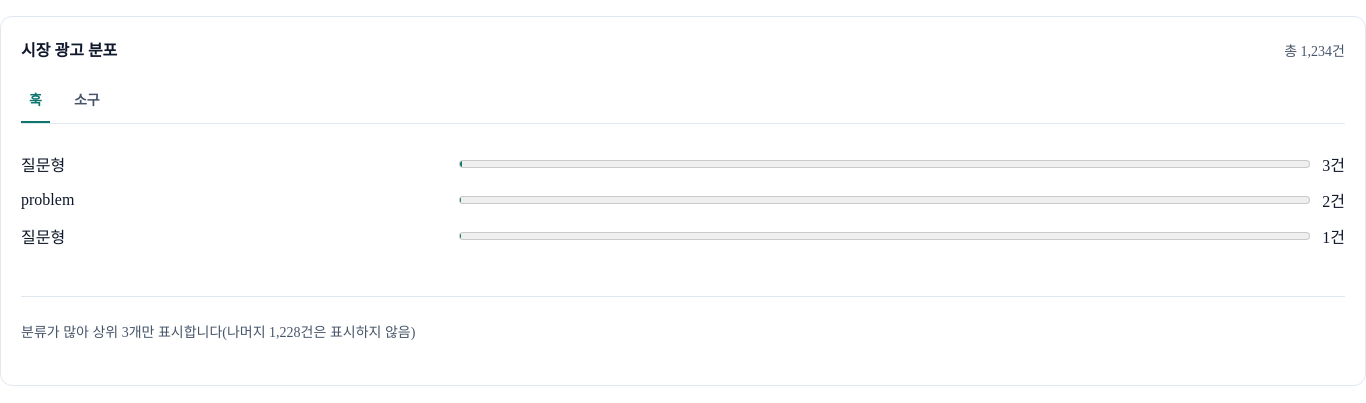
Test: shows only a consistent active-axis total in the result competitor title line
Expected: the text with class "gs-insight-total" reads "총 1,234건", [1284,40,1345,60]
Expected: the headings read "시장 광고 분포", in this order, [21,37,117,61]
Click the tab "소구" at (87, 100), box [66,77,108,123]
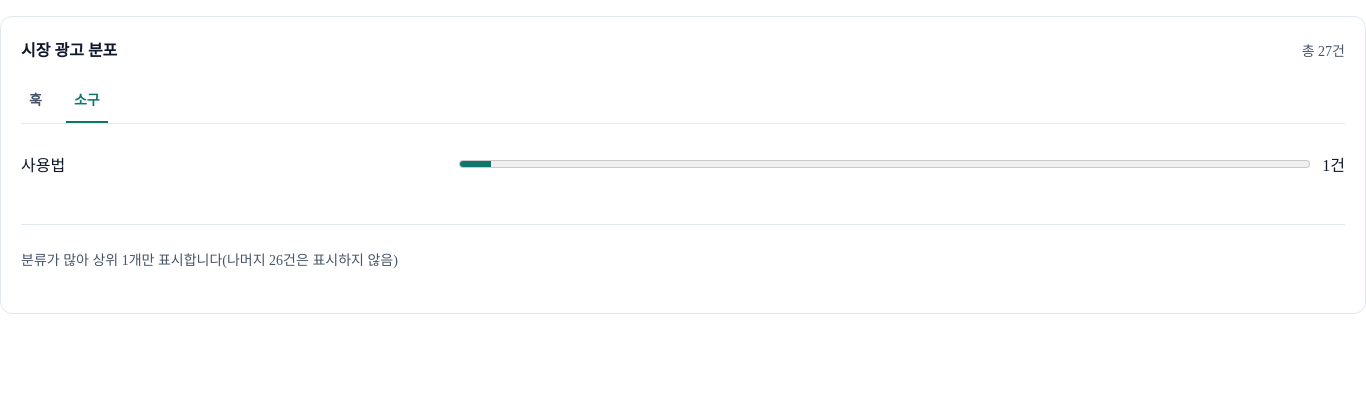
Expected: the text with class "gs-insight-total" reads "총 27건", [1302,40,1345,60]
Click the tab "훅" at (35, 100), box [21,77,50,123]
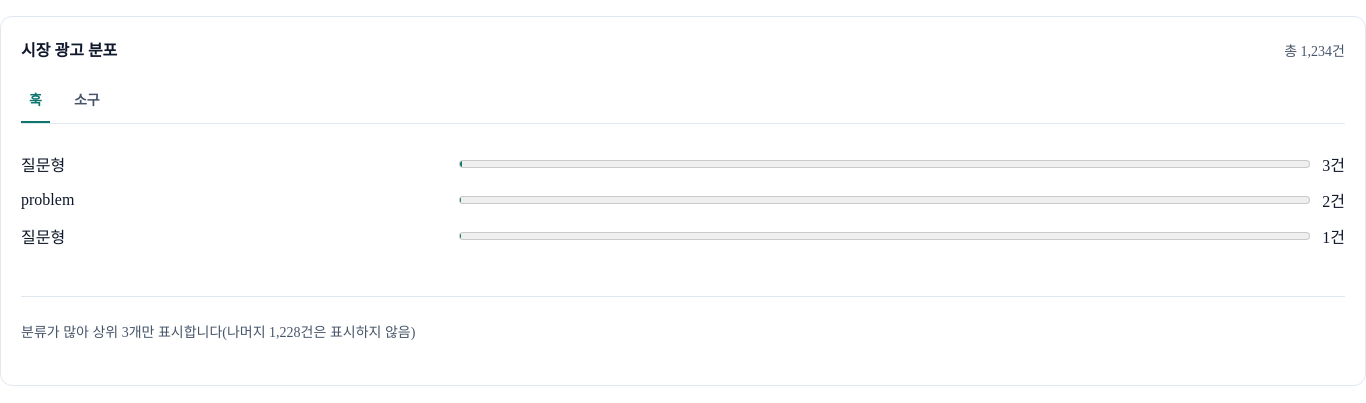
Expected: the text with class "gs-insight-total" reads "총 1,234건", [1284,40,1345,60]
